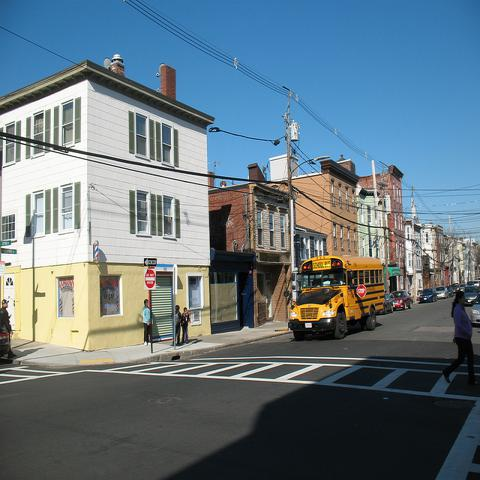bus: (290, 254, 384, 341)
car: (389, 290, 414, 311), (0, 324, 11, 360), (463, 283, 479, 307), (470, 291, 480, 327), (420, 288, 437, 303), (383, 294, 394, 313), (436, 286, 449, 299), (451, 283, 460, 292), (472, 279, 480, 288), (446, 286, 453, 296), (459, 283, 465, 291)
